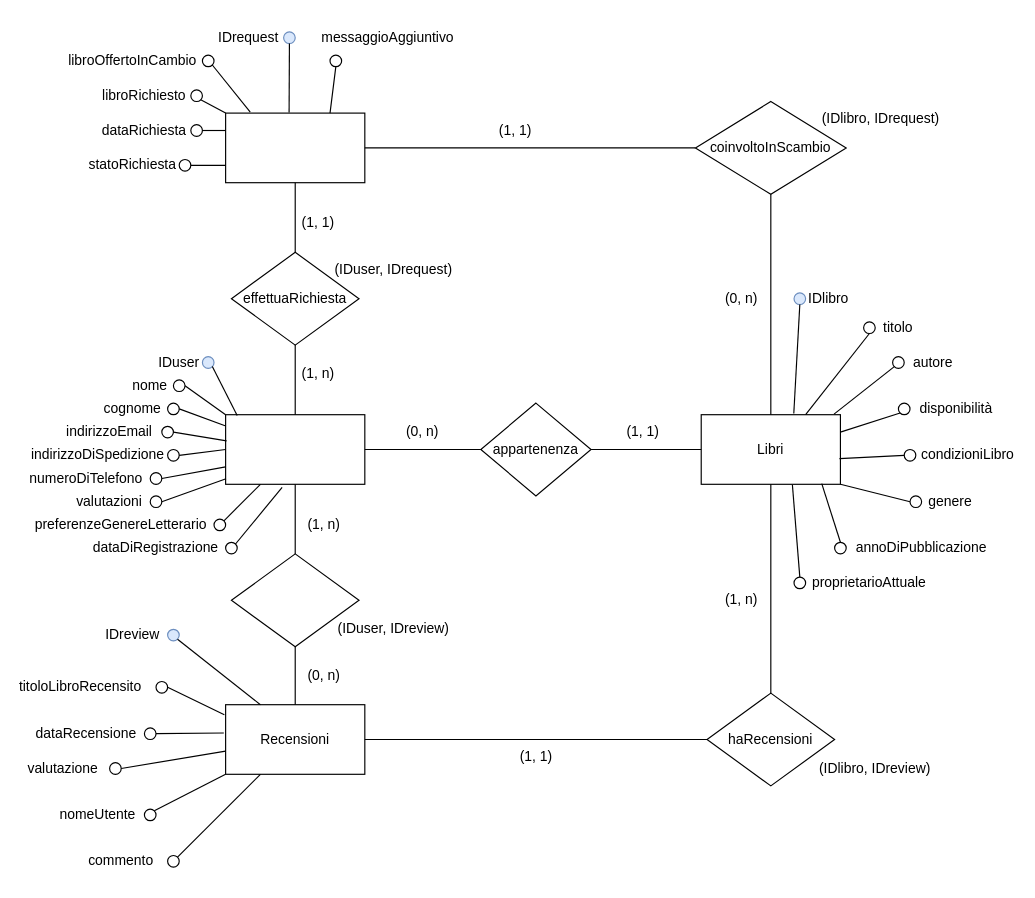
The diagram is 1035 pixels wide and 898 high, and some of its shapes have lost their labels. The centre of each missing label's shape, as x and y in pixels:
"lasciaRecensione" belongs at point (294, 600).
"Richieste_di_scambio" belongs at point (294, 147).
"Utenti" belongs at point (294, 449).
